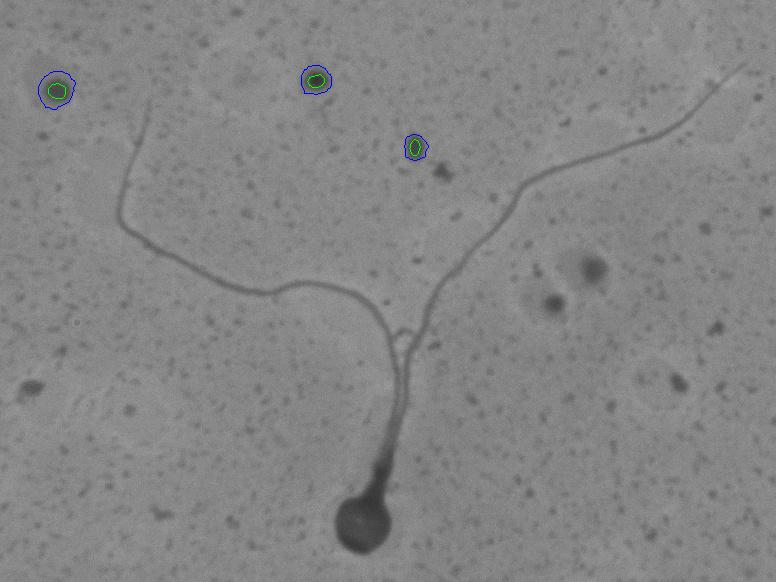Abnormal: (96, 29, 762, 573)
